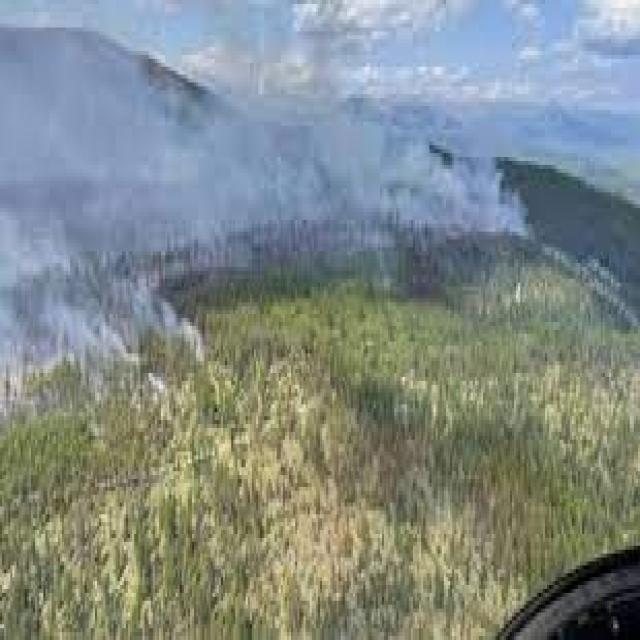Smoke: (0, 94, 533, 266), (0, 46, 213, 402)
